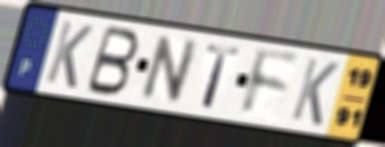B: (82, 23, 142, 98)
F: (239, 45, 302, 119)
K: (42, 18, 96, 92), (288, 55, 341, 129)
N: (137, 33, 203, 105)
T: (200, 42, 243, 111)
